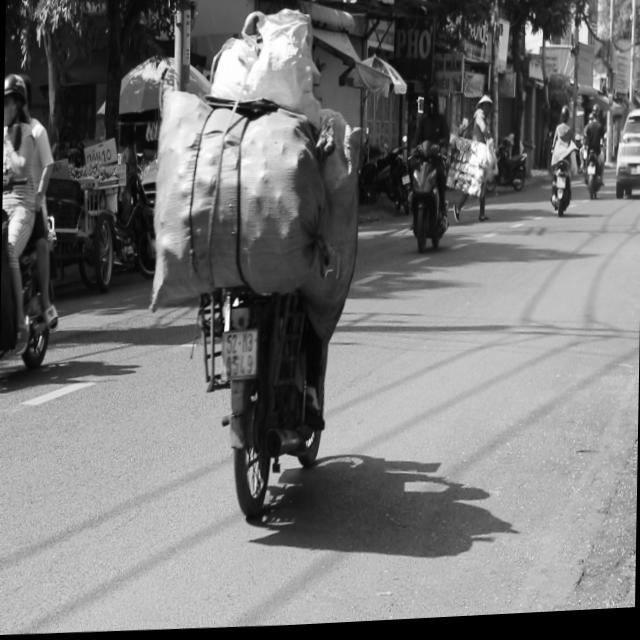helmet: (4, 71, 29, 126)
licenseplate: (178, 0, 366, 535), (0, 67, 64, 390)
nohelmet: (221, 333, 256, 381)
